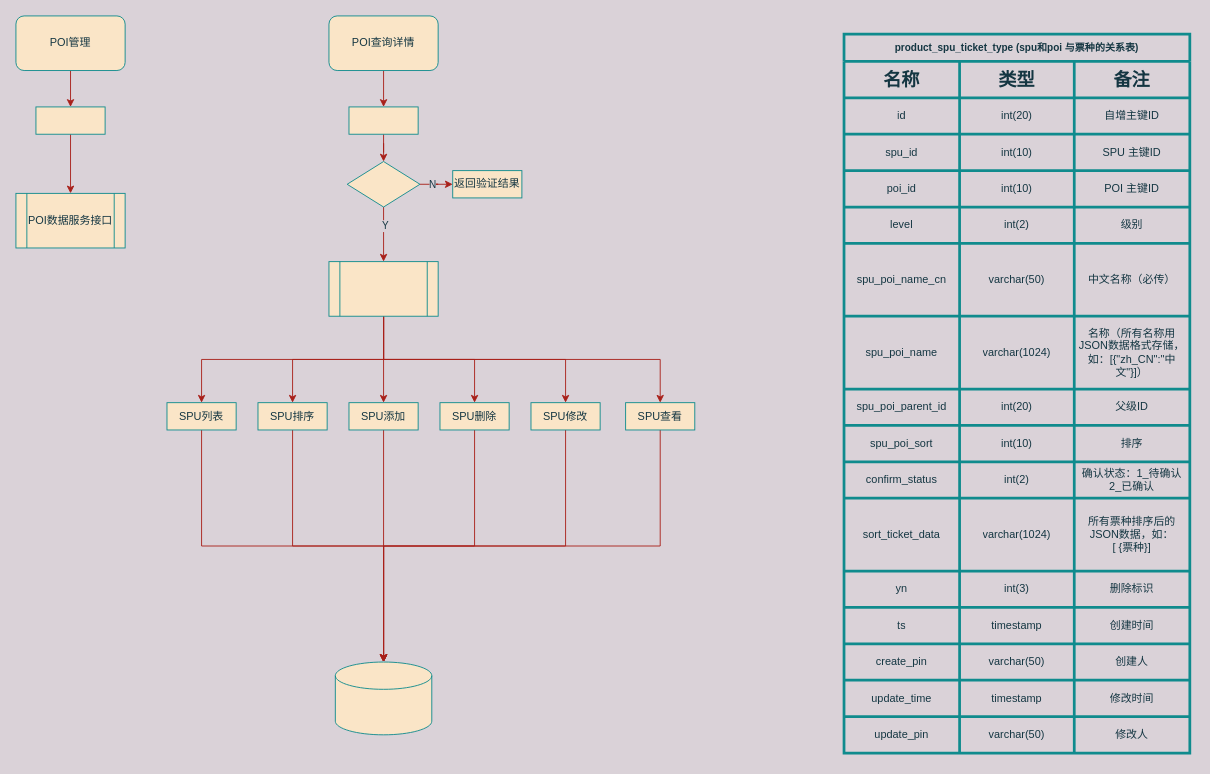
Image size: 1210x774. Some labels were removed from this diagram. The shapes that lost their labels are listed below. From the top down, each one's centre as x and y in pixels, then its label:
the point at 70,120: 列表
the point at 383,120: 当前POI下所有SPU列表
the point at 383,184: 校验入参
the point at 383,288: 服务接口
the point at 383,698: DB数据库 SPU_POI和票种关系
